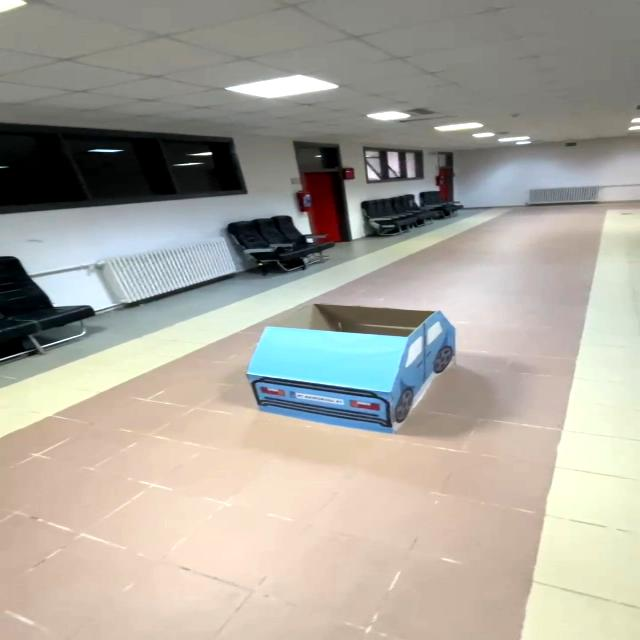blue_car: (214, 294, 484, 448)
